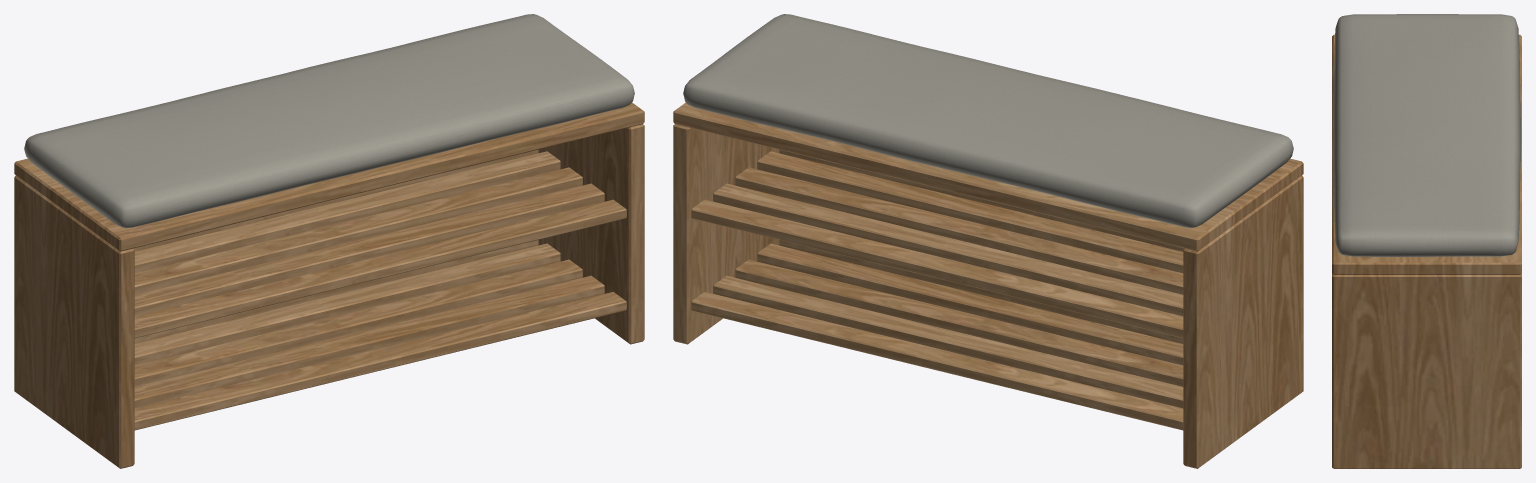
The model's file is banco_zapatero_100.glb.
The picture shows the model from 3 angles, left to right: view 1: azimuth 30°, elevation 25°; view 2: azimuth 150°, elevation 25°; view 3: azimuth 270°, elevation 25°; orthographic projection. The views are drawn at different scales.
Parts seen in each view (by area): view 1: banco_zapatero_100; view 2: banco_zapatero_100; view 3: banco_zapatero_100.
Boxes of the visible parts, x1,y1,x2,y2 form: banco_zapatero_100: [14, 14, 644, 468]; banco_zapatero_100: [673, 14, 1303, 468]; banco_zapatero_100: [1332, 14, 1521, 468].
Size of the model in its own units: 1 by 0.4803 by 0.35.
Materials: 2 (2 with a texture image).
